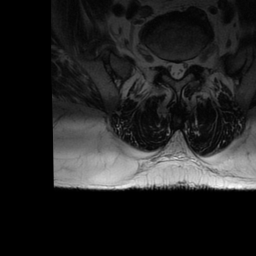CCS_normal: (173, 54, 179, 83)
LFS_normal: (186, 52, 195, 72)
LLS_normal: (180, 55, 186, 80)
RFS_normal: (159, 51, 167, 74)
RLS_normal: (167, 54, 173, 78)
